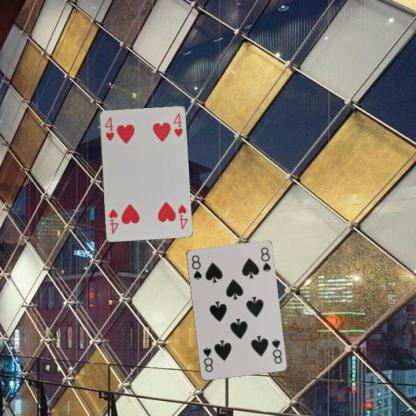4h: (175, 202, 188, 231), (102, 115, 115, 142)
8s: (189, 252, 203, 281), (269, 336, 283, 365)
